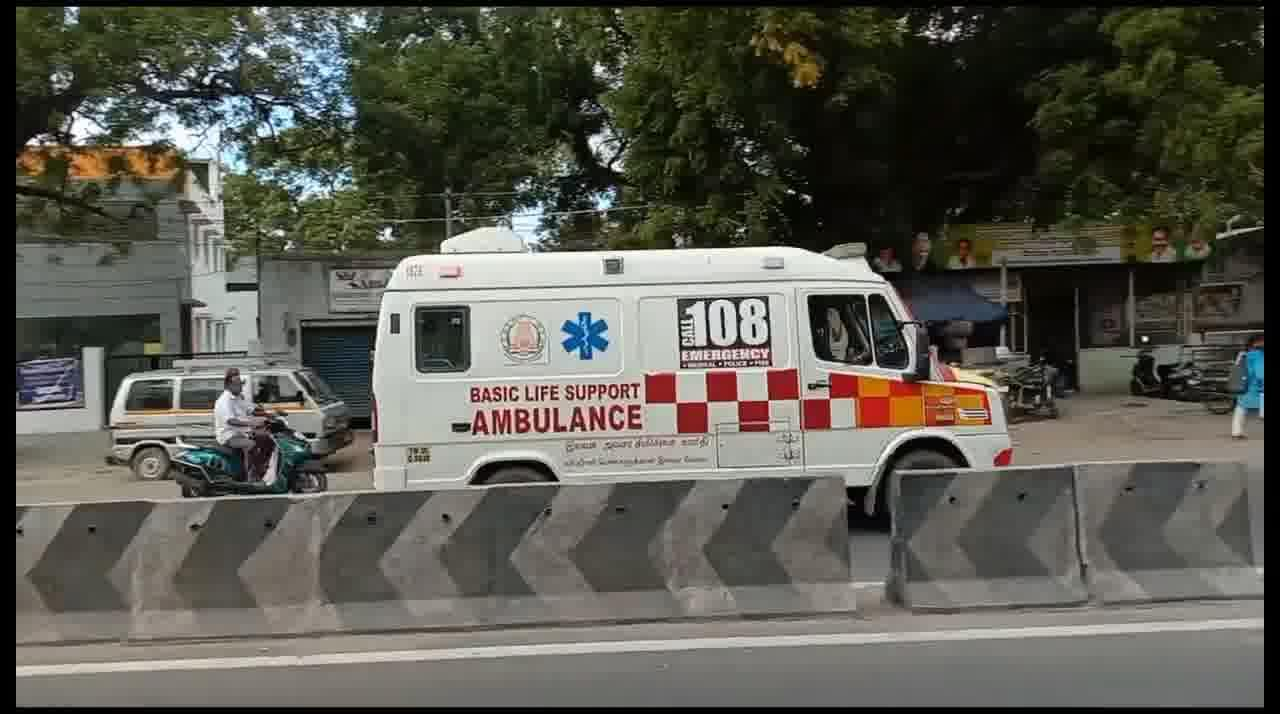AMBULANCE: (365, 237, 1015, 465)
